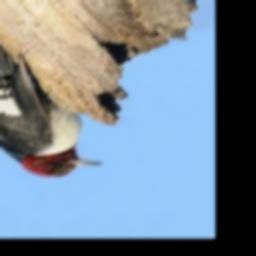Woodpecker: (0, 40, 104, 178)
